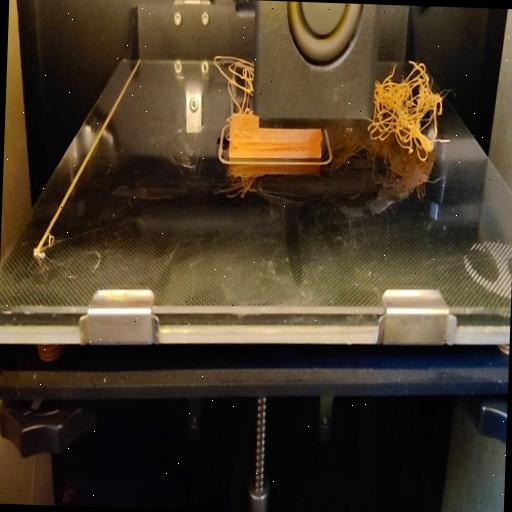spaghetti: (370, 58, 452, 162), (208, 48, 254, 138)
